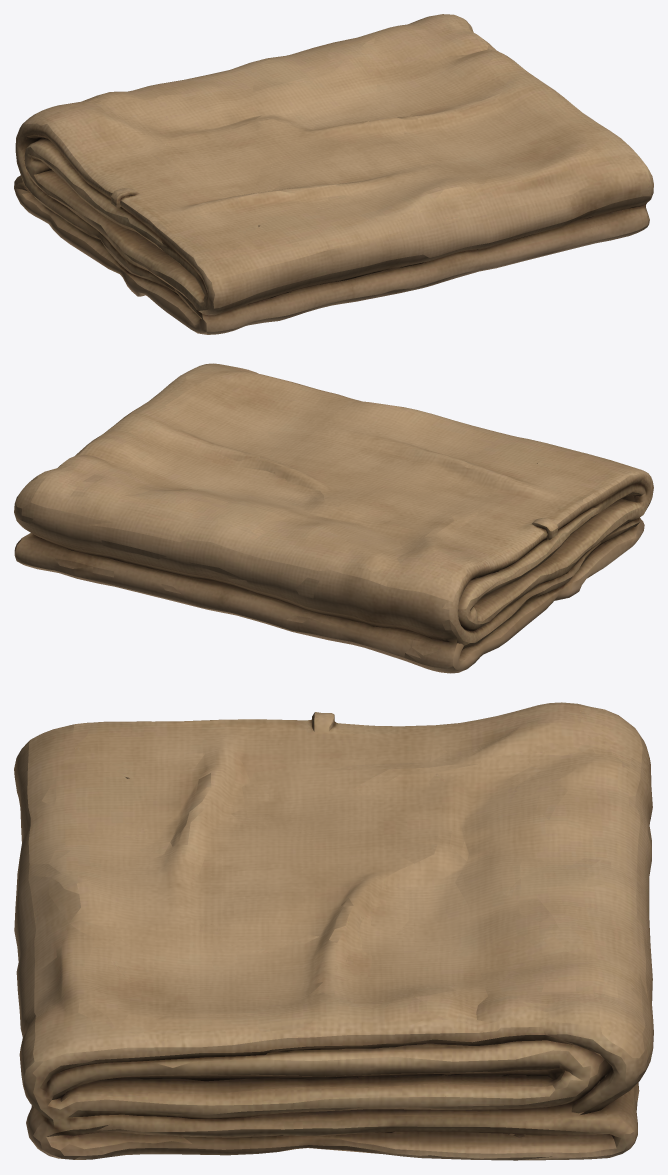
The model's file is cloth.glb.
The picture shows the model from 3 angles, top to bottom: view 1: azimuth 30°, elevation 25°; view 2: azimuth 150°, elevation 25°; view 3: azimuth 270°, elevation 25°; orthographic projection. The views are drawn at different scales.
Visible parts, largest first — view 1: world; view 2: world; view 3: world.
Boxes of the visible parts, left/top/right/bottom form: world: left=14, top=14, right=653, bottom=334; world: left=14, top=363, right=653, bottom=673; world: left=14, top=702, right=653, bottom=1160.
Bounding box in the file's own units: 1 × 0.2187 × 0.808.
Materials: 1 (1 with a texture image).
